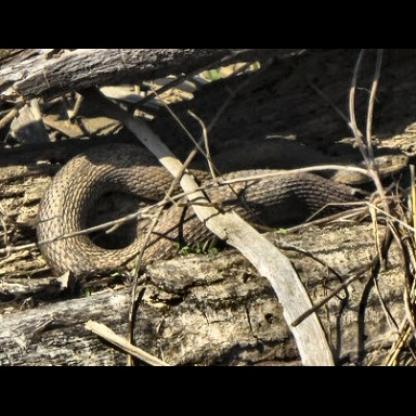Snake: (38, 135, 386, 261)
